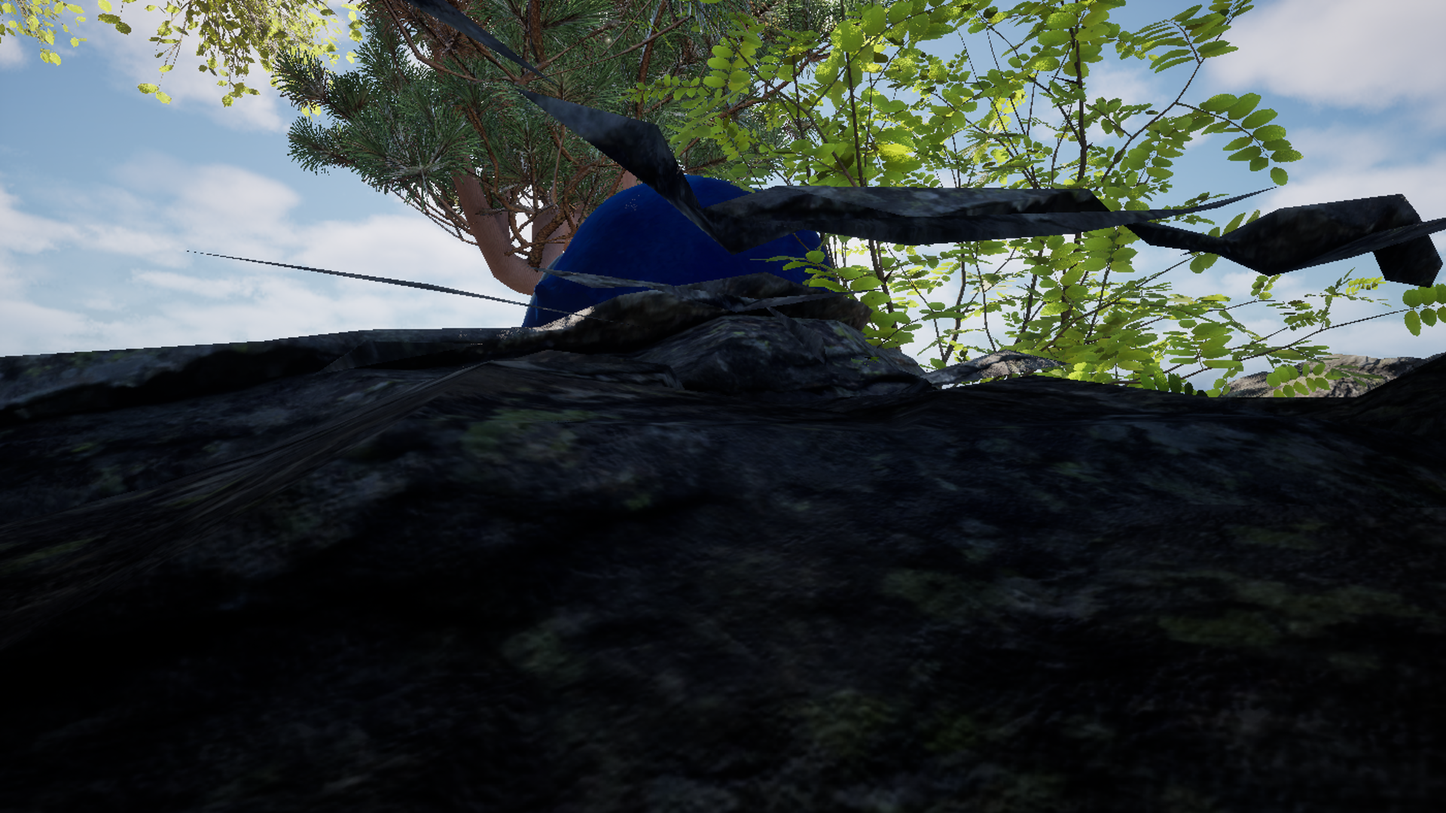Piplup: (145, 0, 1301, 813)
